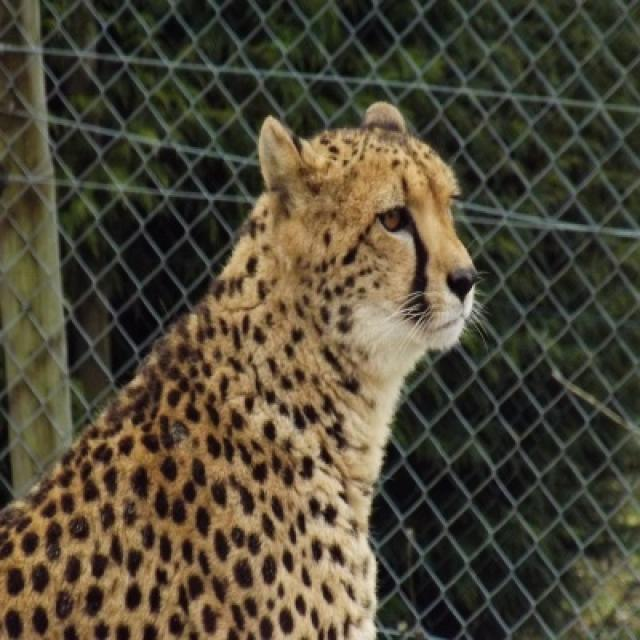Cheetah: (0, 102, 475, 638)
